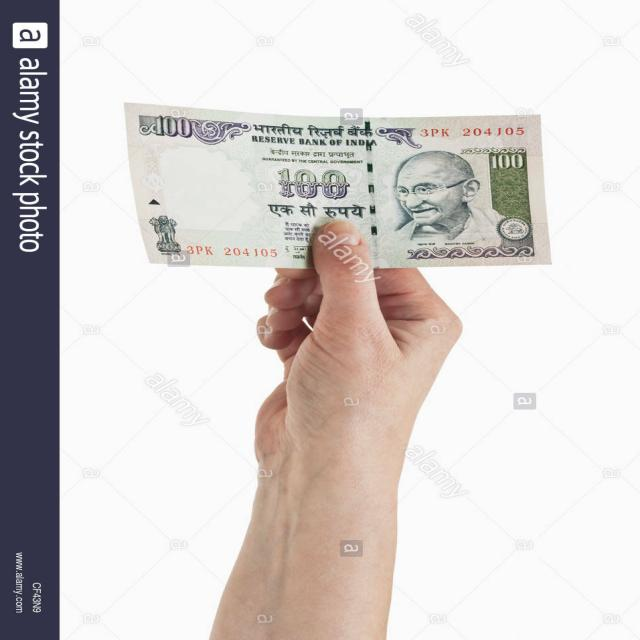100IndianRupees: (120, 100, 548, 264)
